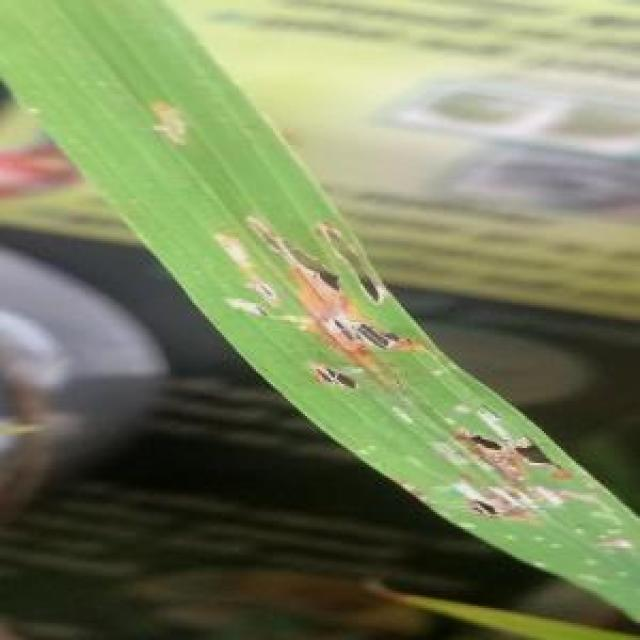Brown_Spot: (232, 183, 388, 394)
